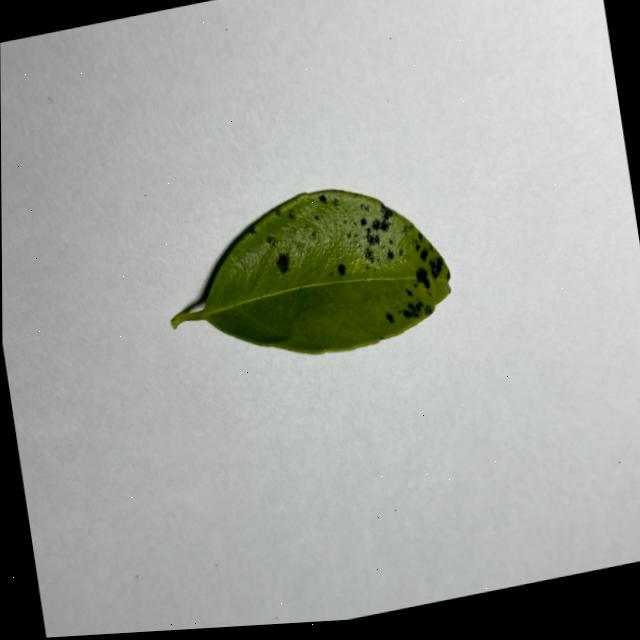sooty_mold: (172, 189, 450, 353)
